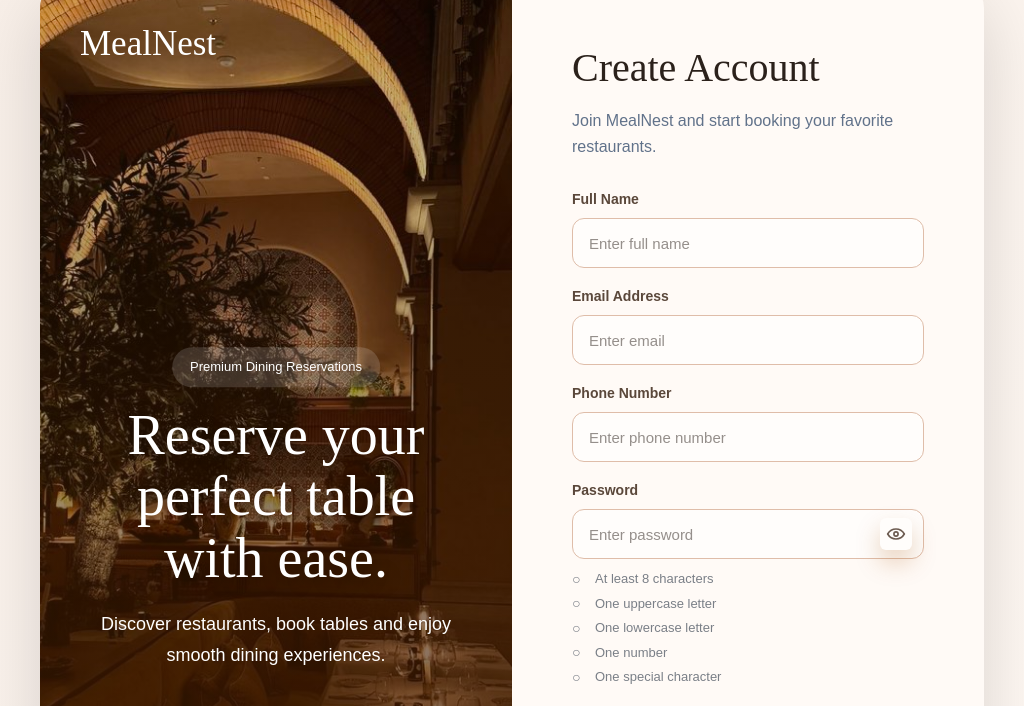
Test: shows success, clears the form, and redirects to login without authenticating
Type "Dawa Sherpa" into the field labelled "Full Name". click: (748, 243)
box: [572,218,924,268]
Type "dawa@example.com" into the field labelled "Email Address". click: (748, 340)
box: [572,315,924,365]
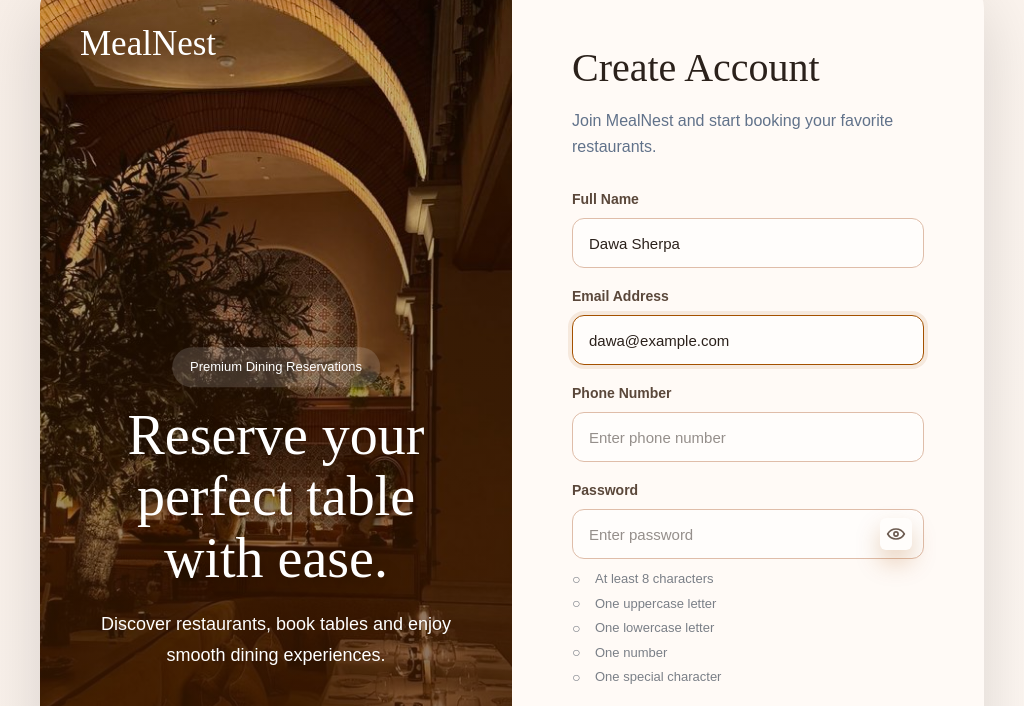
Type "9845698712" into the field labelled "Phone Number". click: (748, 437)
box: [572,412,924,462]
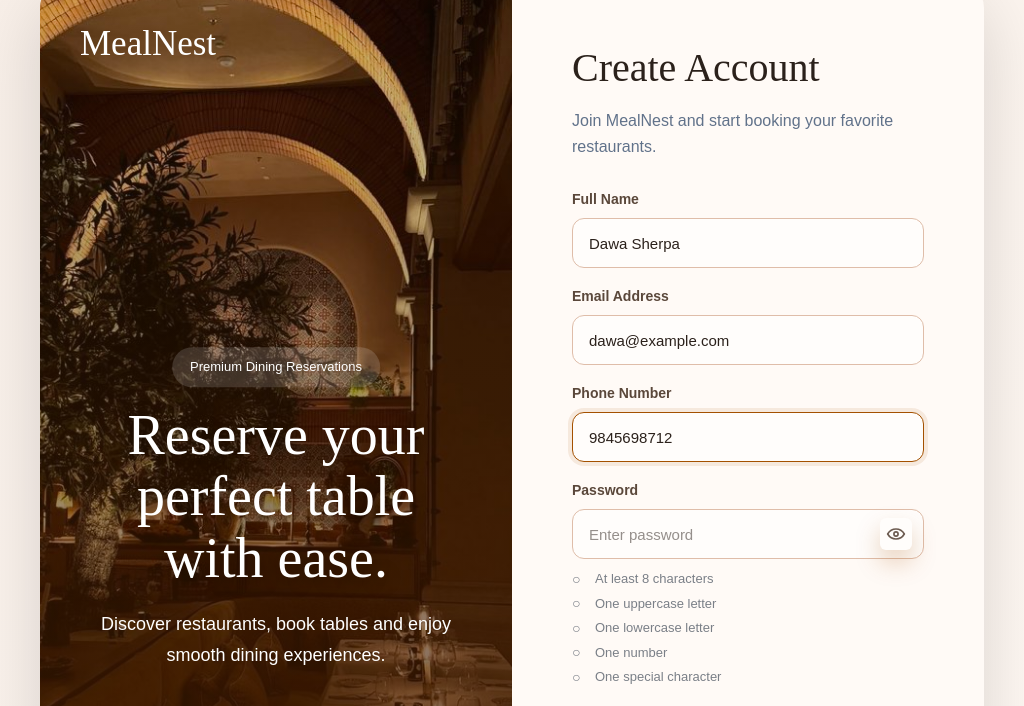
Type "Secret123!" into the password field labelled "Password". click: (748, 534)
box: [572,509,924,559]
(page scrolled)
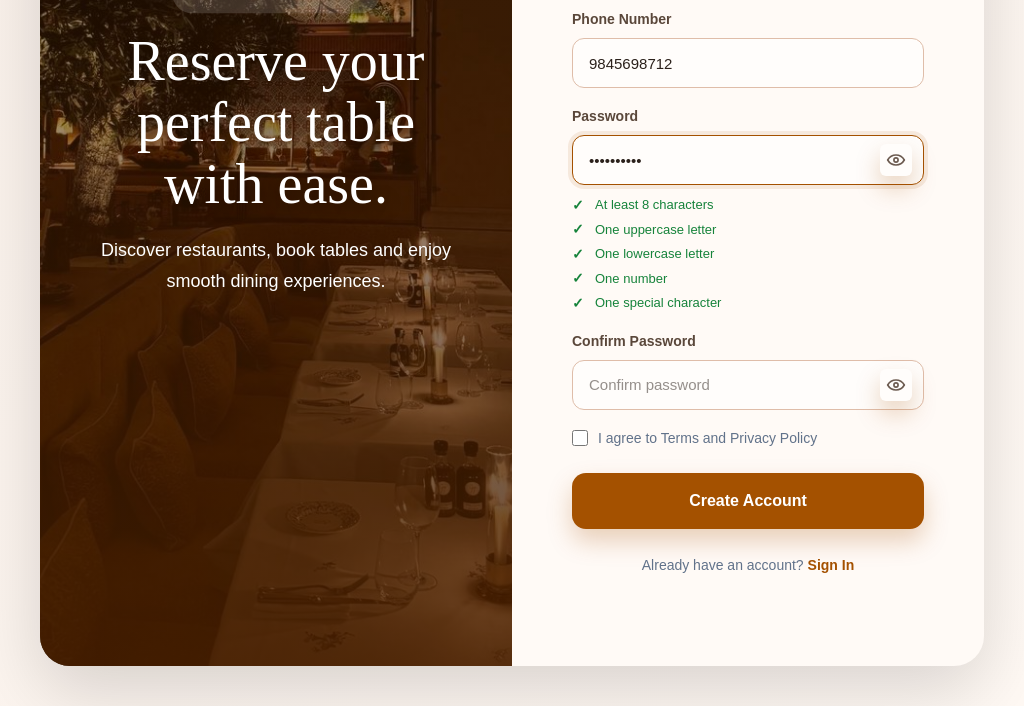
Type "Secret123!" into the password field labelled "Confirm Password". click: (748, 385)
box: [572,360,924,410]
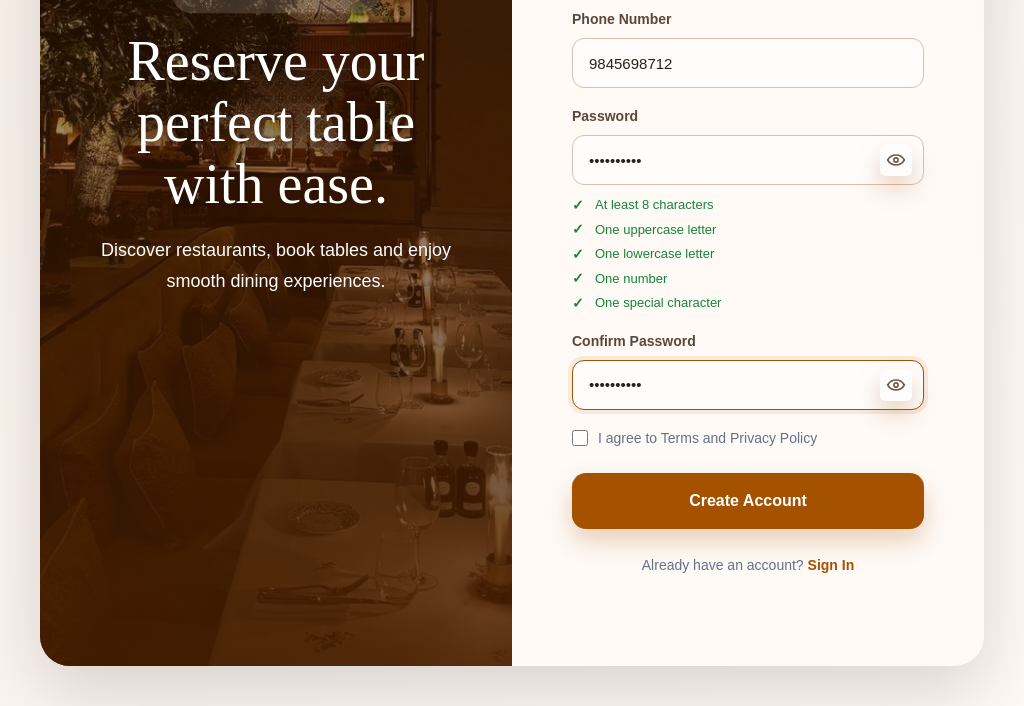
Click the checkbox labelled "I agree to Terms and Privacy Policy". click: (580, 438)
box: [572,430,588,446]
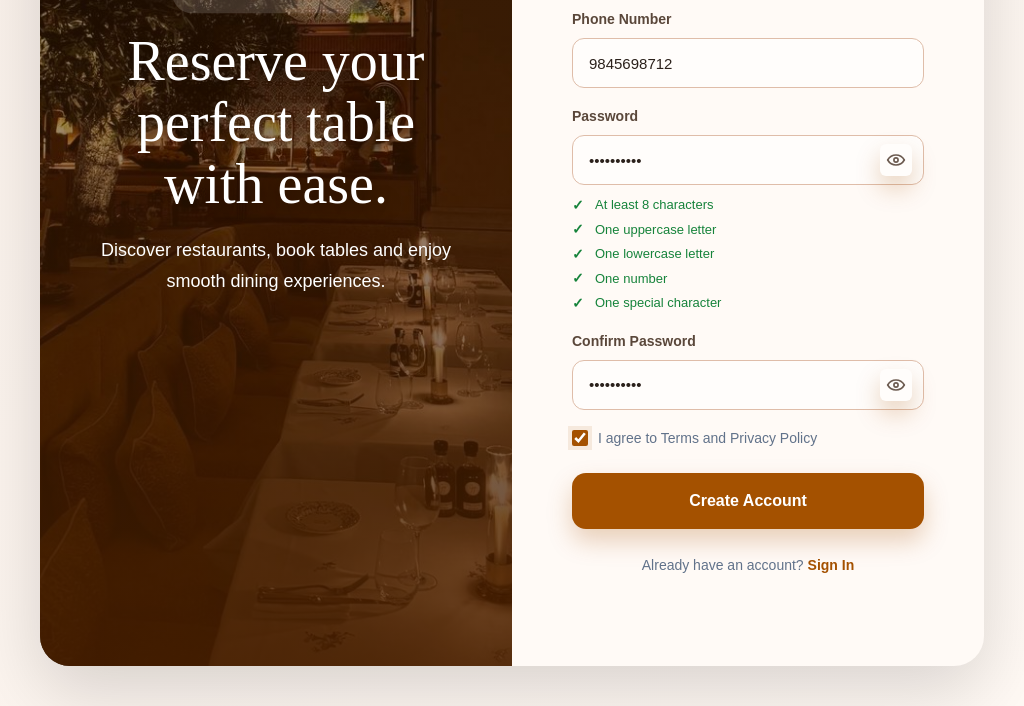
Click the button "Create Account". click: (748, 501)
box: [572,473,924,529]
(page scrolled)
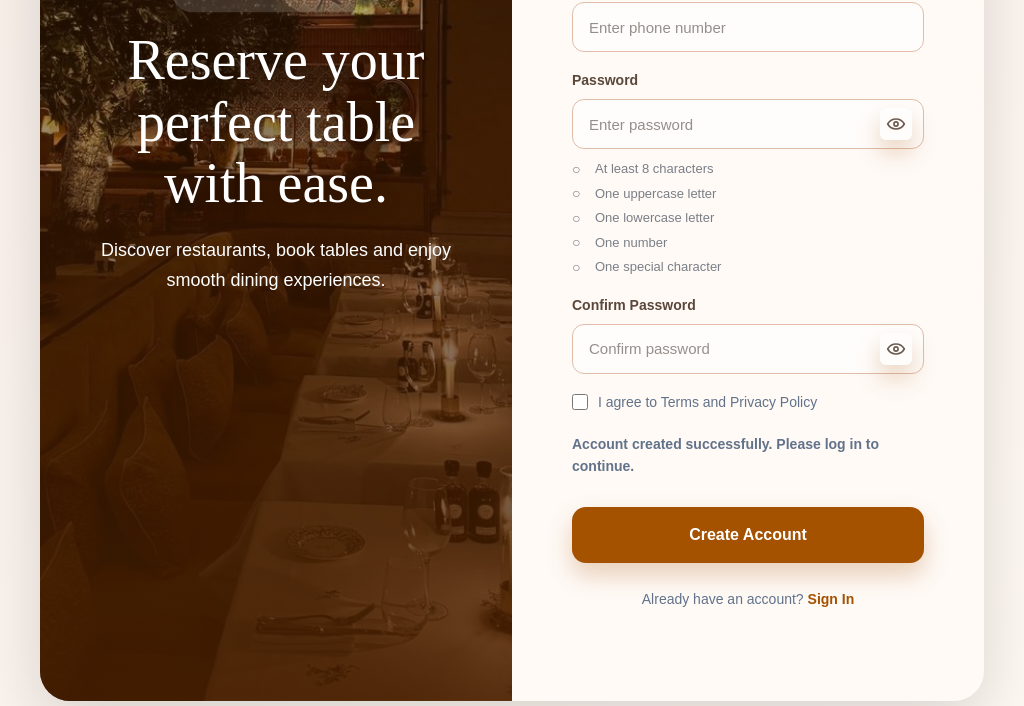
expect the message reads "Account created successfully. Please log in to continue.": met, box [572,436,879,474]
expect the password field labelled "Password" is empty: met, box [572,99,924,149]
